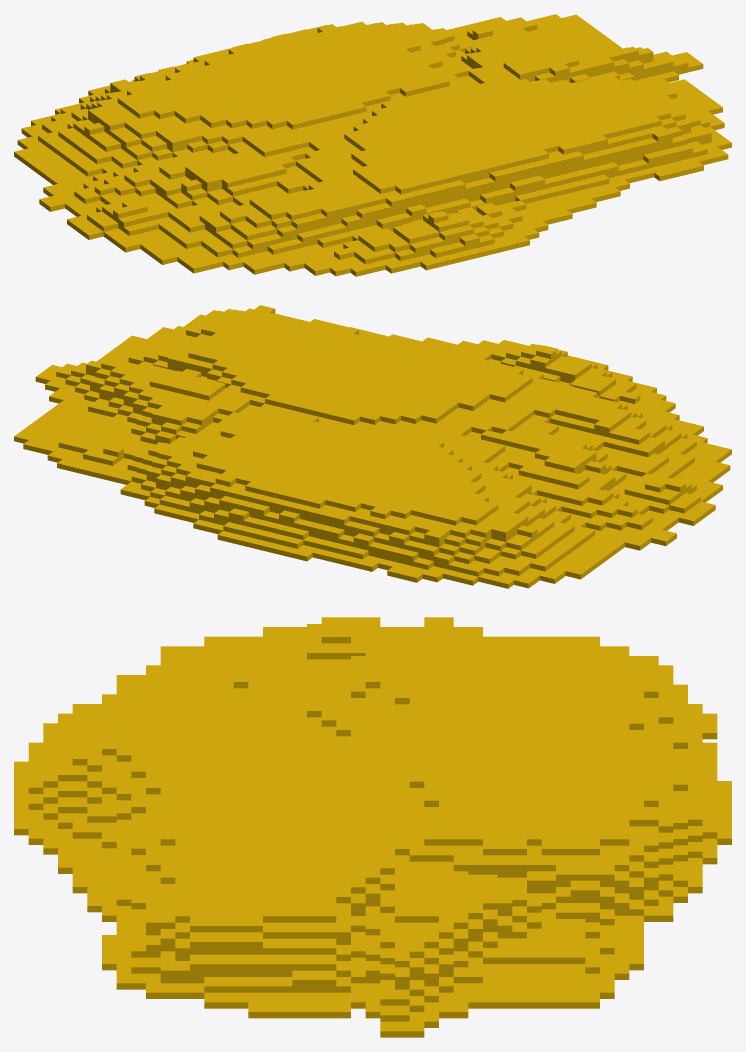
File: sable_chunk.fbx
The picture shows the model from 3 angles, top to bottom: view 1: azimuth 30°, elevation 25°; view 2: azimuth 150°, elevation 25°; view 3: azimuth 270°, elevation 25°; orthographic projection. The views are drawn at different scales.
Parts seen in each view (by area): view 1: Landscape.004; view 2: Landscape.004; view 3: Landscape.004.
Boxes of the visible parts, x1,y1,x2,y2 form: Landscape.004: [14, 14, 731, 276]; Landscape.004: [14, 305, 731, 588]; Landscape.004: [14, 617, 731, 1037].
Size of the model in its own units: 6188 by 309 by 4536.
